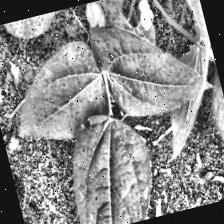ALS: (86, 2, 193, 128), (2, 59, 97, 147)
